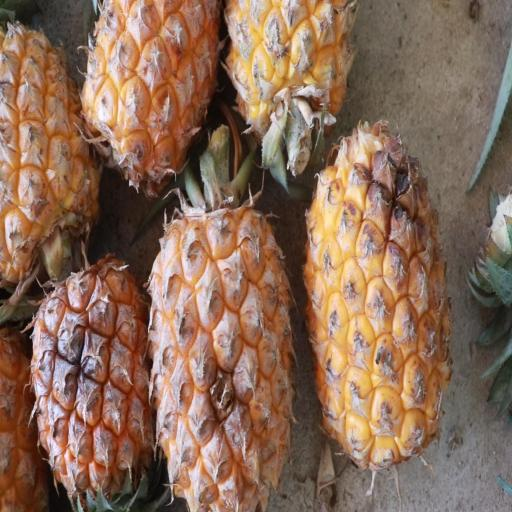Pineapple - v8 v1: (304, 115, 456, 473), (148, 164, 298, 512), (25, 243, 154, 512), (0, 1, 103, 288), (78, 0, 224, 188), (224, 0, 357, 176)
